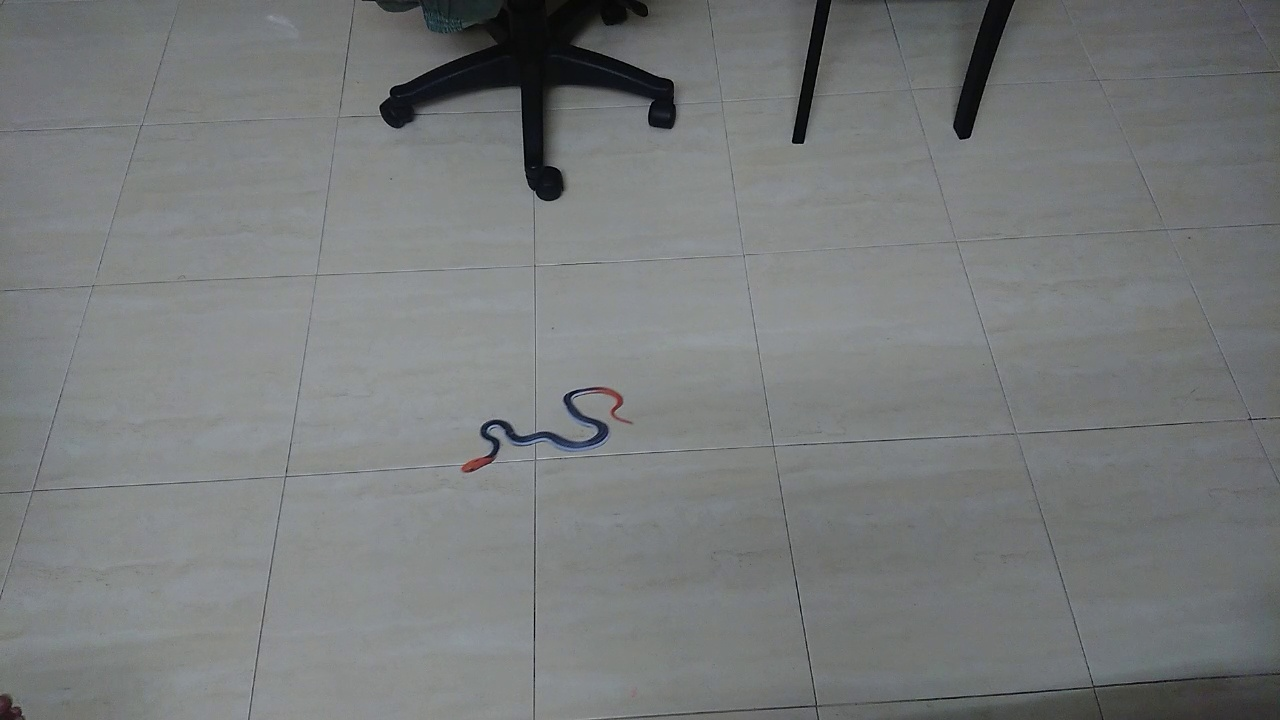snake: (446, 375, 646, 487)
